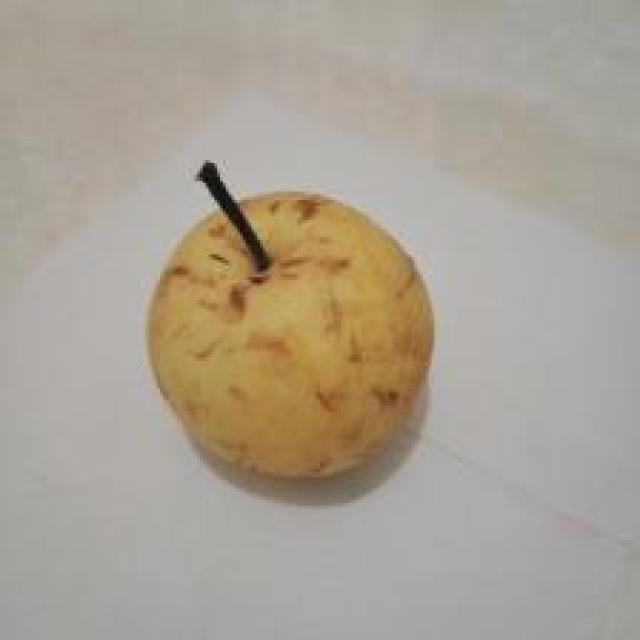rotten apple: (99, 131, 467, 516)
